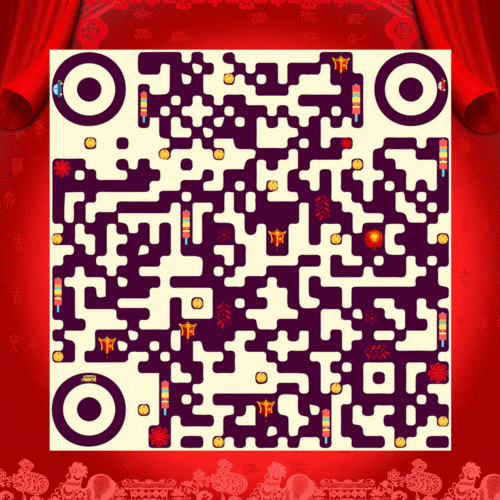QRCode: (49, 49, 453, 451)
